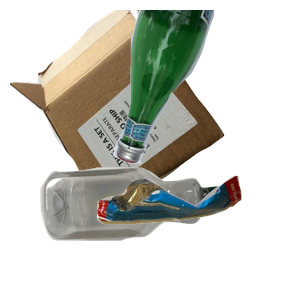cardboard: (10, 10, 227, 190)
glass: (109, 10, 300, 167)
plastic: (38, 165, 255, 300)
trash: (94, 173, 300, 300)
